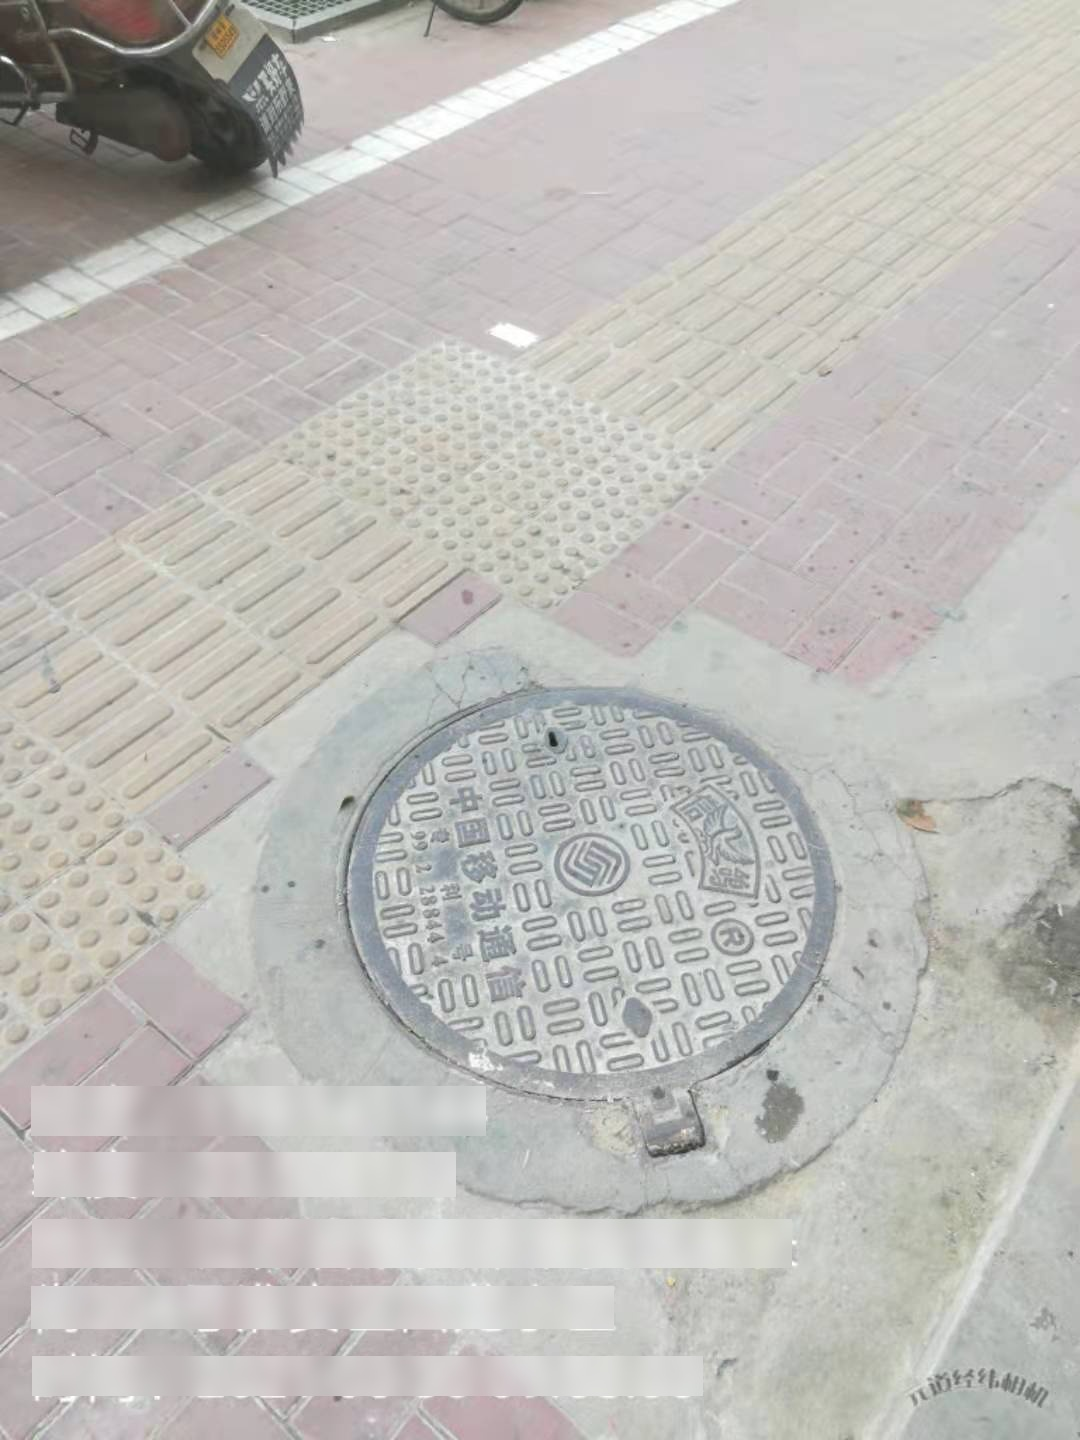good: (334, 681, 849, 1164)
